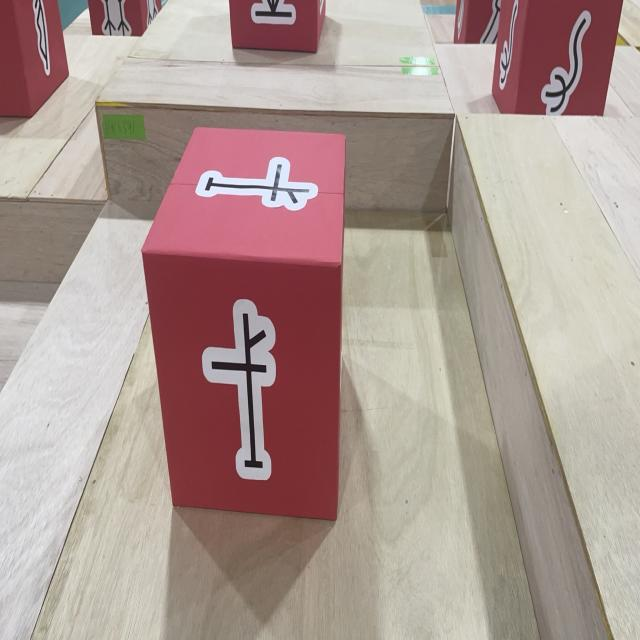10: (480, 0, 500, 43), (457, 0, 464, 38)
11: (32, 0, 50, 75)
13: (540, 10, 592, 116), (499, 0, 519, 91)
6: (101, 0, 132, 36), (146, 0, 158, 26)
7: (251, 0, 296, 24)
9: (202, 298, 276, 481), (195, 156, 319, 211)
fighter: (140, 126, 346, 522), (492, 0, 623, 116), (0, 0, 69, 119), (228, 0, 326, 54), (88, 0, 161, 36), (454, 0, 501, 44)
